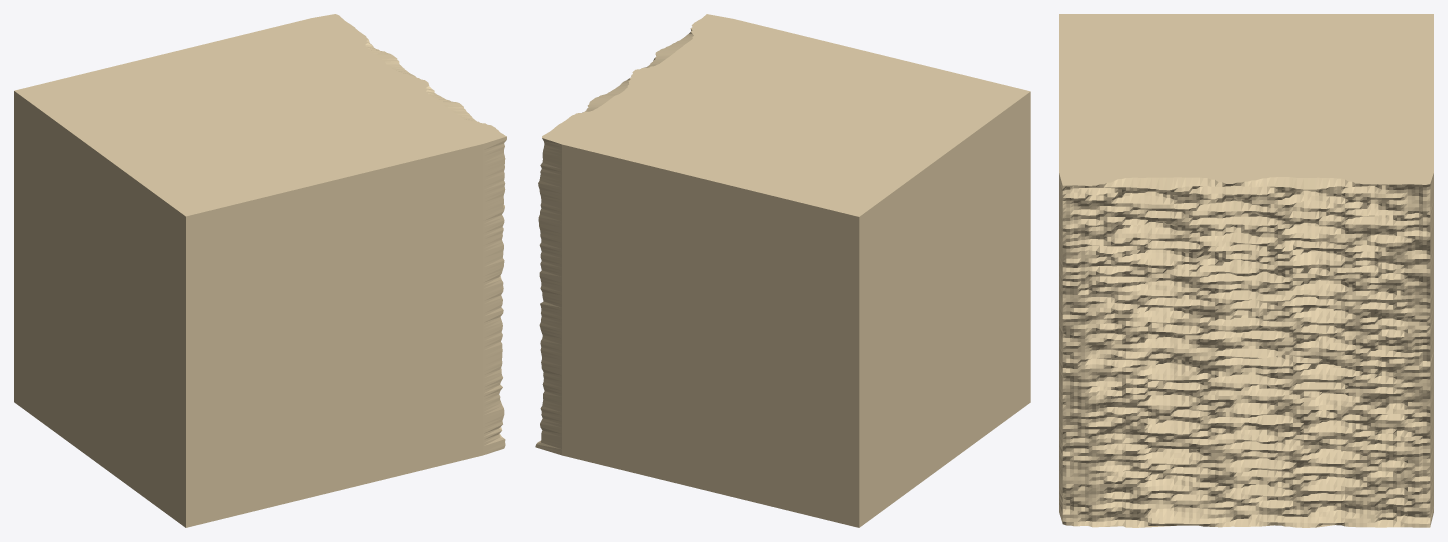
The model's file is lat1.png 1.obj.
The picture shows the model from 3 angles, left to right: view 1: azimuth 30°, elevation 25°; view 2: azimuth 150°, elevation 25°; view 3: azimuth 270°, elevation 25°; orthographic projection. The views are drawn at different scales.
Visible parts, largest first — view 1: Cube; view 2: Cube; view 3: Cube.
Boxes of the visible parts, x1,y1,x2,y2 form: Cube: (14, 14, 506, 527); Cube: (535, 14, 1030, 527); Cube: (1059, 14, 1433, 527).
Size of the model in its own units: 1.1 by 1 by 1.
